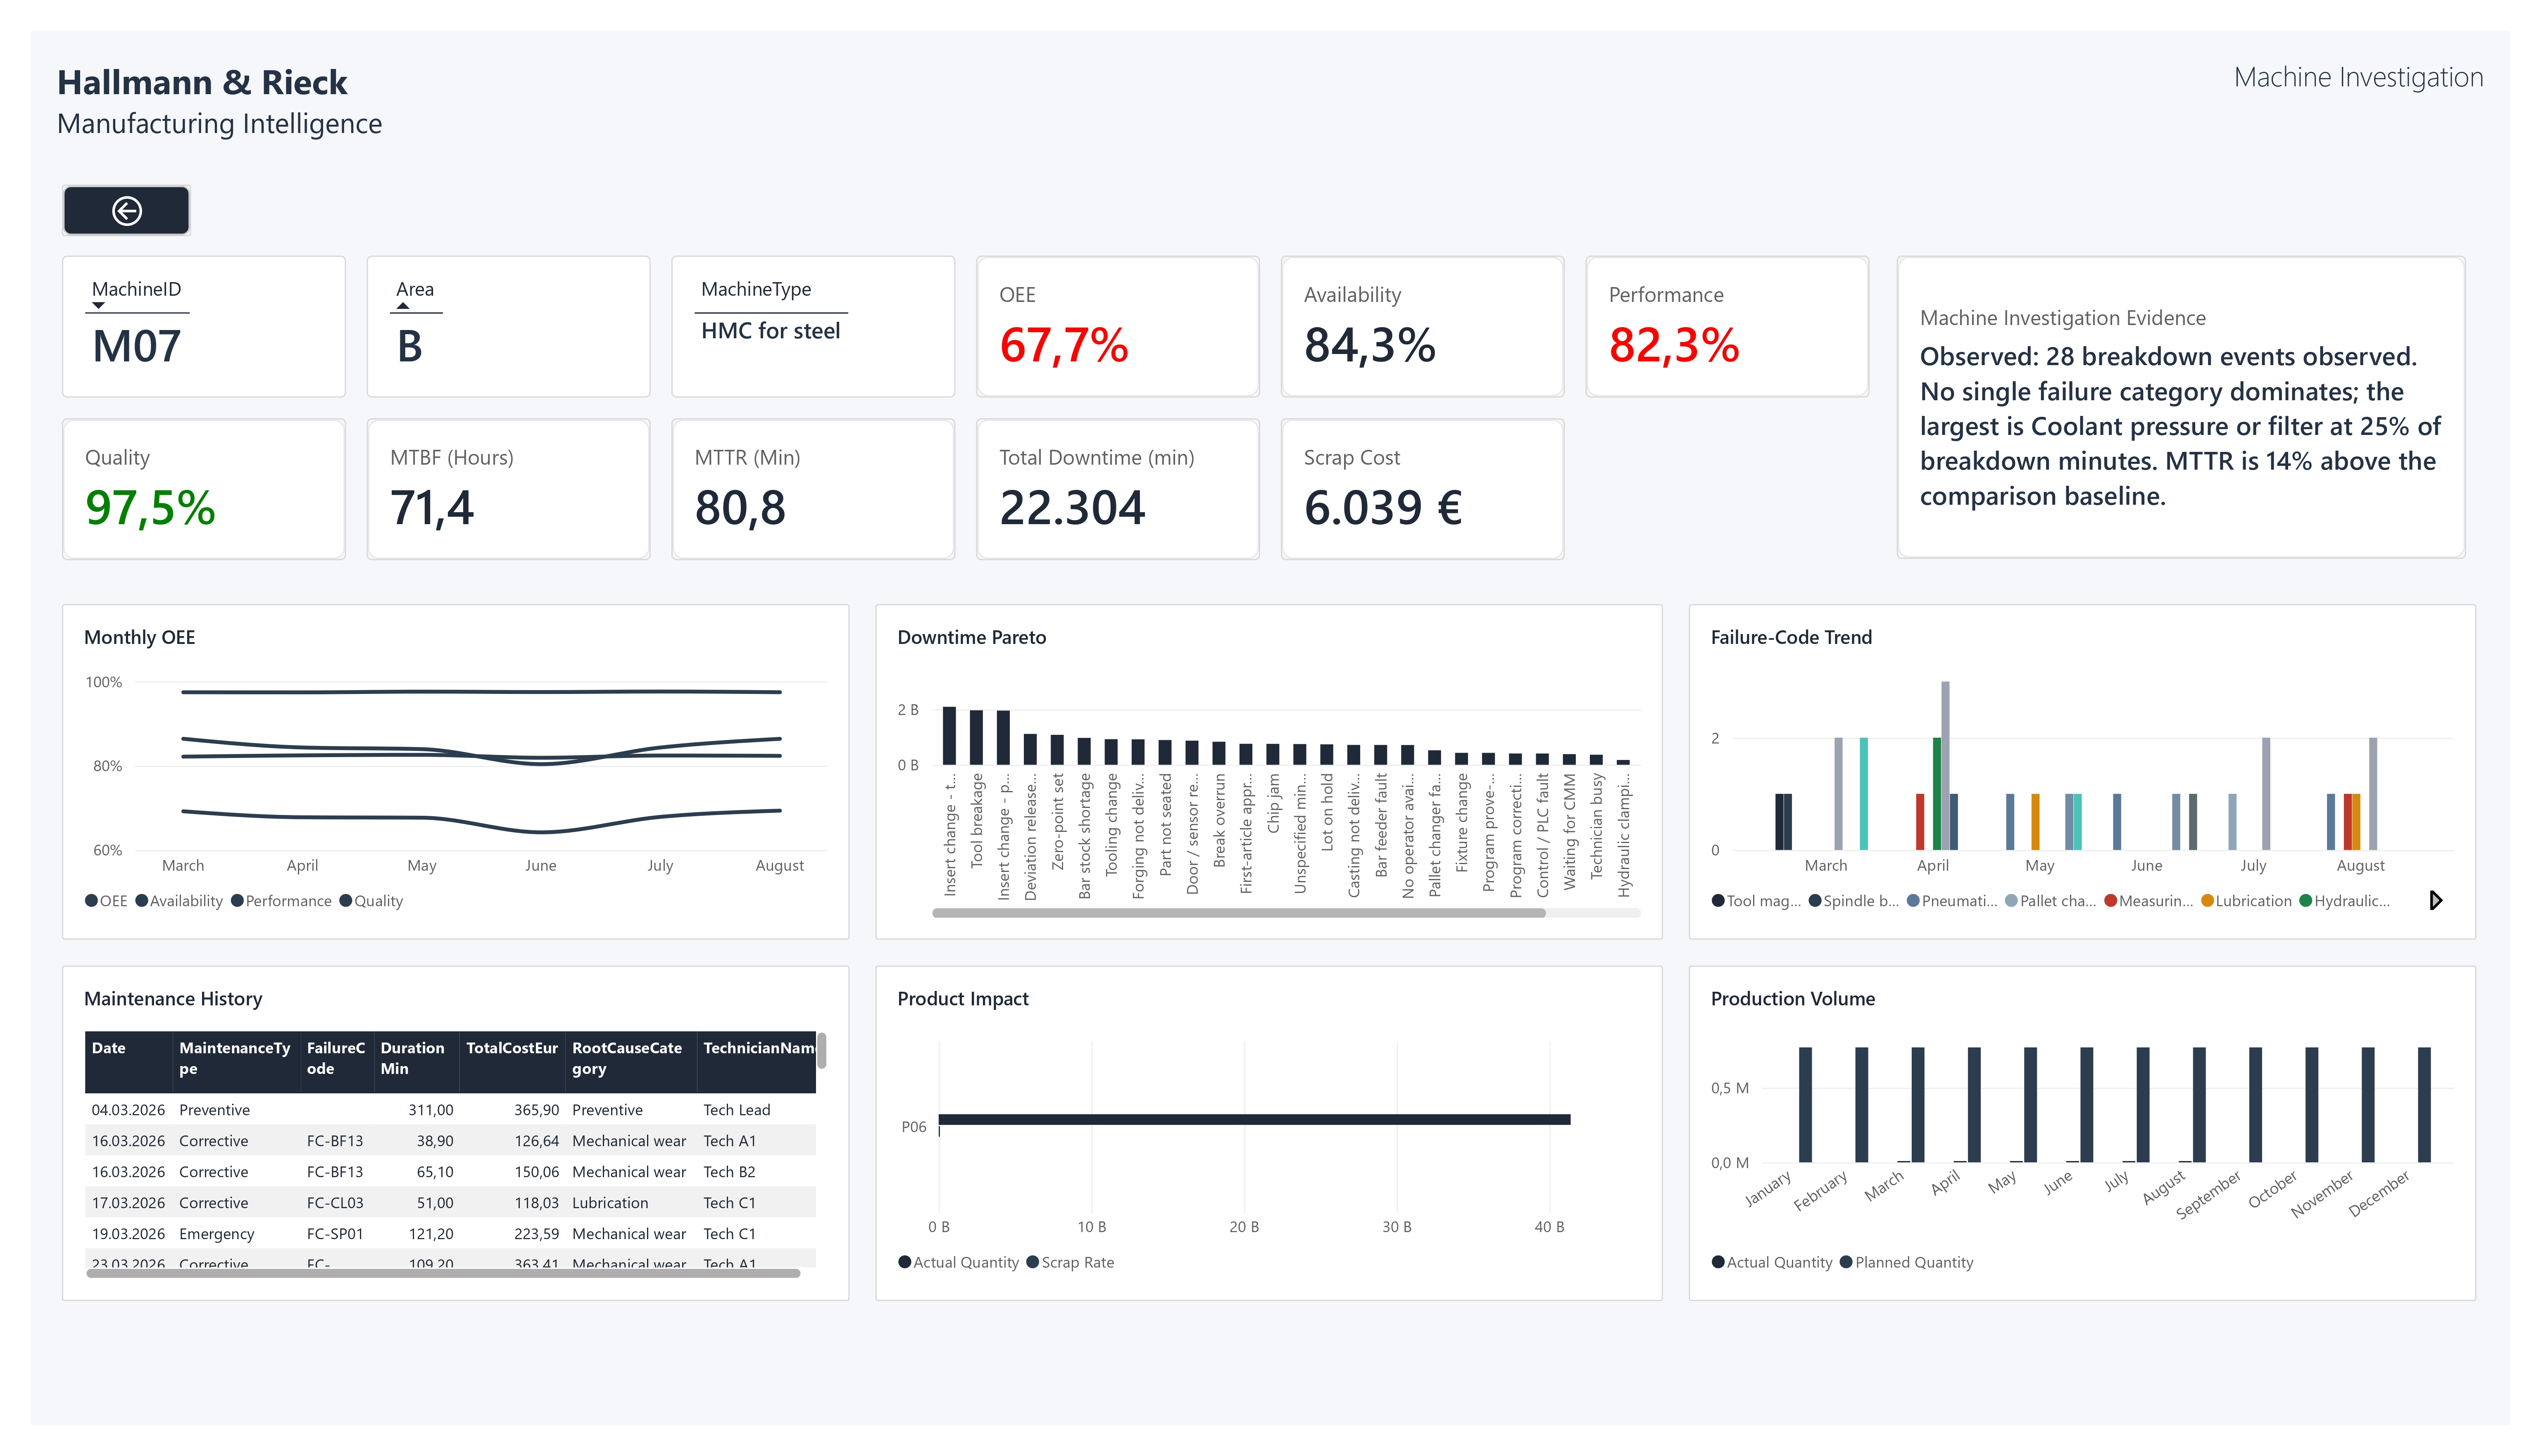

The page's visual inventory and layout, read from the dashboard file:
{"tool":"powerbi","page":{"name":"06 Machine Investigation","canvas":[1920,1080],"ordinal":5},"visuals":[{"type":"textbox","title":"Company Text","box":[20,20,362.5,80],"z":0,"group":"g1"},{"type":"tableEx","title":"Maintenance History","fields":{"Values":["Fact_Maintenance.Date","Fact_Maintenance.MaintenanceType","Fact_Maintenance.FailureCode","Fact_Maintenance.DurationMin","Fact_Maintenance.TotalCostEur","Fact_Maintenance.RootCauseCategory","Dim_Technician.TechnicianName"]},"box":[23.7,724.5,610,260],"z":0},{"type":"textbox","title":"Page Text","box":[1644.9,20,255.1,80.5],"z":1000,"group":"g1"},{"type":"cardVisual","fields":{"Data":["_Measures.MTBF (Hours)"],"Values":["_Measures.MTBF (Hours)"]},"box":[259.7,300.5,220,110],"z":1000},{"type":"cardVisual","fields":{"Data":["_Measures.OEE"]},"box":[731.7,174.5,220,110],"z":2000},{"type":"cardVisual","fields":{"Data":["_Measures.Total Downtime Min"],"Values":["_Measures.Total Downtime Min"]},"box":[731.7,300.5,220,110],"z":3000},{"type":"cardVisual","fields":{"Data":["_Measures.Performance"]},"box":[1203.7,174.5,220,110],"z":4000},{"type":"tableEx","fields":{"Values":["Dim_Machine.MachineID"]},"box":[23.7,174.5,220,110],"z":5000},{"type":"clusteredBarChart","title":"Product Impact","fields":{"Category":["Dim_Product.ProductID"],"Y":["_Measures.Actual Quantity","_Measures.Scrap Rate"]},"box":[653.7,724.5,610,260],"z":6000},{"type":"tableEx","fields":{"Values":["Dim_Machine.MachineType"]},"box":[495.7,174.5,220,110],"z":7000},{"type":"cardVisual","fields":{"Data":["_Measures.Availability"]},"box":[967.7,174.5,220,110],"z":8000},{"type":"cardVisual","fields":{"Data":["_Measures.Scrap Cost"],"Values":["_Measures.Scrap Cost"]},"box":[967.7,300.5,220,110],"z":9000},{"type":"tableEx","fields":{"Values":["Dim_Machine.Area"]},"box":[259.7,174.5,220,110],"z":10000},{"type":"lineChart","title":"Monthly OEE","fields":{"Category":["Dim_Date.MonthName"],"Y":["_Measures.OEE","_Measures.Availability","_Measures.Performance","_Measures.Quality"]},"box":[23.7,444.5,610,260],"z":11000},{"type":"clusteredColumnChart","title":"Production Volume","fields":{"Category":["Dim_Date.MonthName"],"Y":["_Measures.Actual Quantity","_Measures.Planned Quantity"]},"box":[1283.7,724.5,610,260],"z":12000},{"type":"cardVisual","fields":{"Data":["_Measures.MTTR (Min)"],"Values":["_Measures.MTTR (Min)"]},"box":[495.7,300.5,220,110],"z":13000},{"type":"cardVisual","fields":{"Data":["_Measures.Quality"]},"box":[23.7,300.5,220,110],"z":14000},{"type":"clusteredColumnChart","title":"Failure-Code Trend","fields":{"Category":["Dim_Date.MonthName"],"Series":["Dim_FailureCode.FailureDescription"],"Y":["_Measures.Breakdown Count"]},"box":[1283.7,444.5,610,260],"z":15000},{"type":"clusteredColumnChart","title":"Downtime Pareto","fields":{"Category":["Dim_DowntimeReason.Reason"],"Y":["_Measures.Total Downtime Min"]},"box":[653.7,444.5,610,260],"z":16000},{"type":"actionButton","box":[24,119.2,100,40],"z":17000},{"type":"cardVisual","fields":{"Data":["_Measures.Machine Investigation Evidence"]},"box":[1444.7,174.3,441.7,235],"z":19000},{"type":"group","id":"g1","title":"Header","box":[20,20,1880,80.5],"z":19001}]}

Visuals, with their boxes on the page's 1920x1080 design canvas (x1, y1, x2, y2). These are canvas units, not pixel positions in the 2541x1456 screenshot, which may show the page scaled, cropped or inside an application window:
"Company Text" textbox: locate(20, 20, 382, 100)
"Maintenance History" tableEx: locate(24, 724, 634, 984)
"Page Text" textbox: locate(1645, 20, 1900, 100)
cardVisual - _Measures.MTBF (Hours) x _Measures.MTBF (Hours): locate(260, 300, 480, 410)
cardVisual - _Measures.OEE: locate(732, 174, 952, 284)
cardVisual - _Measures.Total Downtime Min x _Measures.Total Downtime Min: locate(732, 300, 952, 410)
cardVisual - _Measures.Performance: locate(1204, 174, 1424, 284)
tableEx - Dim_Machine.MachineID: locate(24, 174, 244, 284)
"Product Impact" clusteredBarChart: locate(654, 724, 1264, 984)
tableEx - Dim_Machine.MachineType: locate(496, 174, 716, 284)
cardVisual - _Measures.Availability: locate(968, 174, 1188, 284)
cardVisual - _Measures.Scrap Cost x _Measures.Scrap Cost: locate(968, 300, 1188, 410)
tableEx - Dim_Machine.Area: locate(260, 174, 480, 284)
"Monthly OEE" lineChart: locate(24, 444, 634, 704)
"Production Volume" clusteredColumnChart: locate(1284, 724, 1894, 984)
cardVisual - _Measures.MTTR (Min) x _Measures.MTTR (Min): locate(496, 300, 716, 410)
cardVisual - _Measures.Quality: locate(24, 300, 244, 410)
"Failure-Code Trend" clusteredColumnChart: locate(1284, 444, 1894, 704)
"Downtime Pareto" clusteredColumnChart: locate(654, 444, 1264, 704)
actionButton: locate(24, 119, 124, 159)
cardVisual - _Measures.Machine Investigation Evidence: locate(1445, 174, 1886, 409)
"Header" group: locate(20, 20, 1900, 100)
